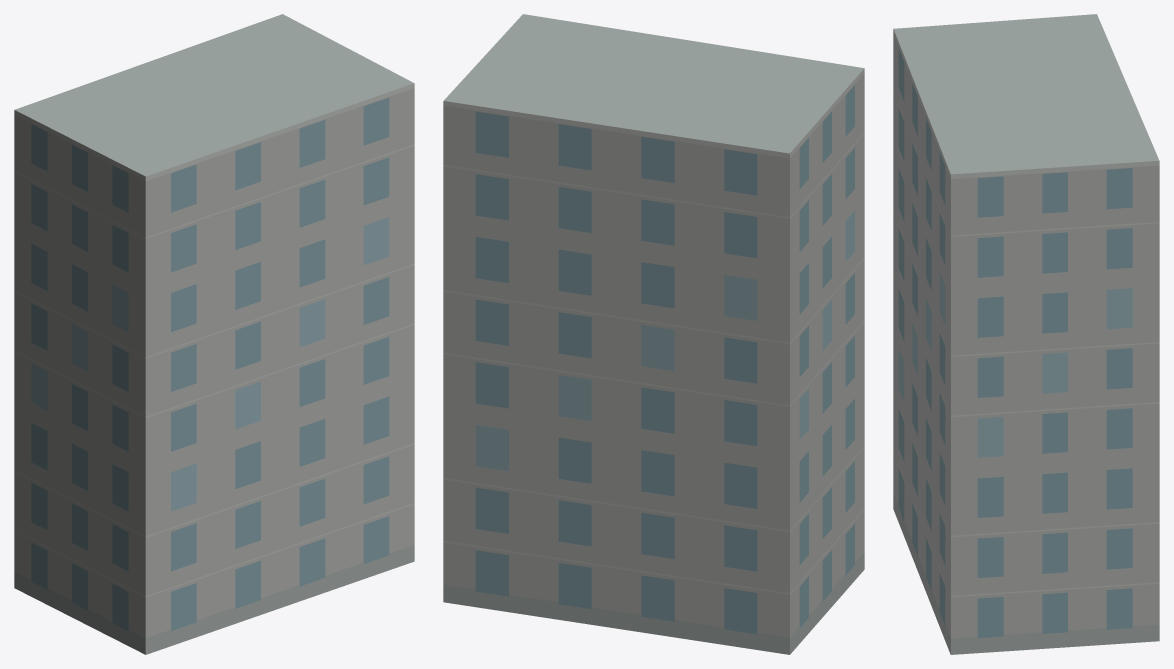
File: survey-upis-33044072.glb
3 renders of one model, left to right at view 1: azimuth 30°, elevation 25°; view 2: azimuth 150°, elevation 25°; view 3: azimuth 270°, elevation 25°, orthographic. The views are drawn at different scales.
Parts seen in each view (by area): view 1: survey-upis-33044072.tmp; view 2: survey-upis-33044072.tmp; view 3: survey-upis-33044072.tmp.
Part boxes in pixels (bbox=[...]): survey-upis-33044072.tmp: bbox=[14, 14, 414, 654]; survey-upis-33044072.tmp: bbox=[443, 14, 864, 654]; survey-upis-33044072.tmp: bbox=[893, 14, 1159, 654].
Size of the model in its own units: 17.5 by 24.4 by 12.27.
